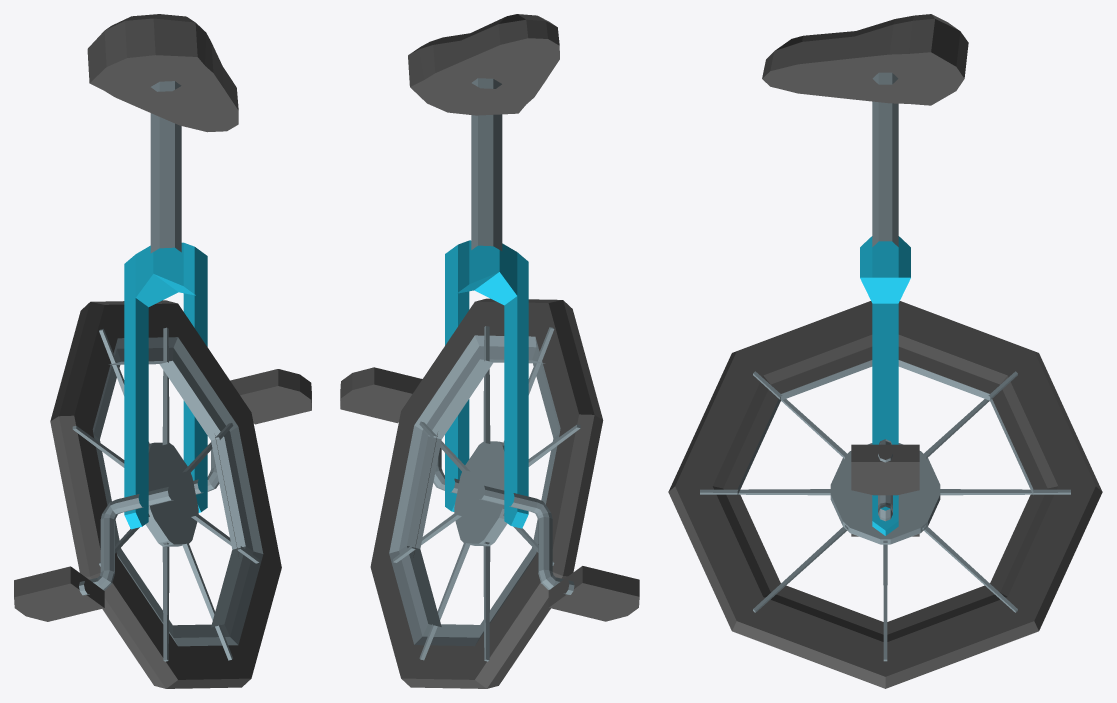
The model's file is scene_Crw6CwtUxg.glb.
3 views of the same model, side by side, from view 1: azimuth 30°, elevation 25°; view 2: azimuth 150°, elevation 25°; view 3: azimuth 270°, elevation 25° (orthographic).
Parts seen in each view (by area): view 1: Circle.003_Circle.006; view 2: Circle.003_Circle.006; view 3: Circle.003_Circle.006.
Boxes of the visible parts, left/top/right/bottom form: Circle.003_Circle.006: left=14, top=14, right=311, bottom=688; Circle.003_Circle.006: left=340, top=14, right=639, bottom=688; Circle.003_Circle.006: left=668, top=14, right=1102, bottom=688.
Size of the model in its own units: 4.68 by 10.15 by 6.09.
